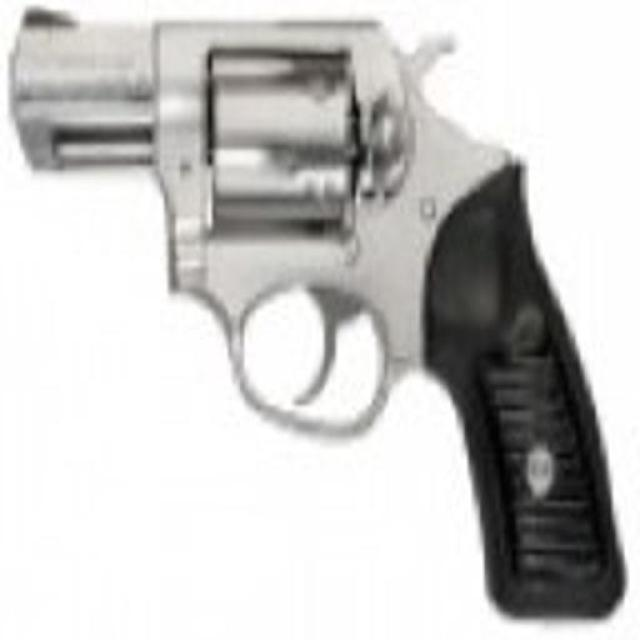pistol: (8, 5, 624, 612)
